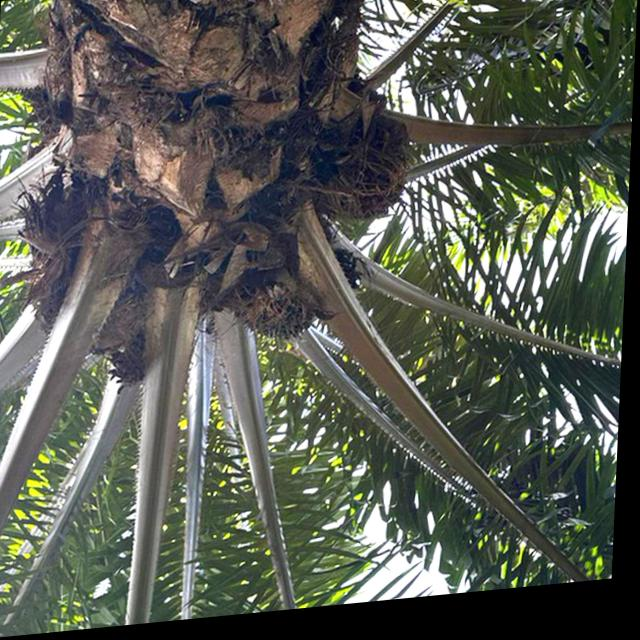unripe: (299, 95, 440, 243), (230, 239, 341, 362)
